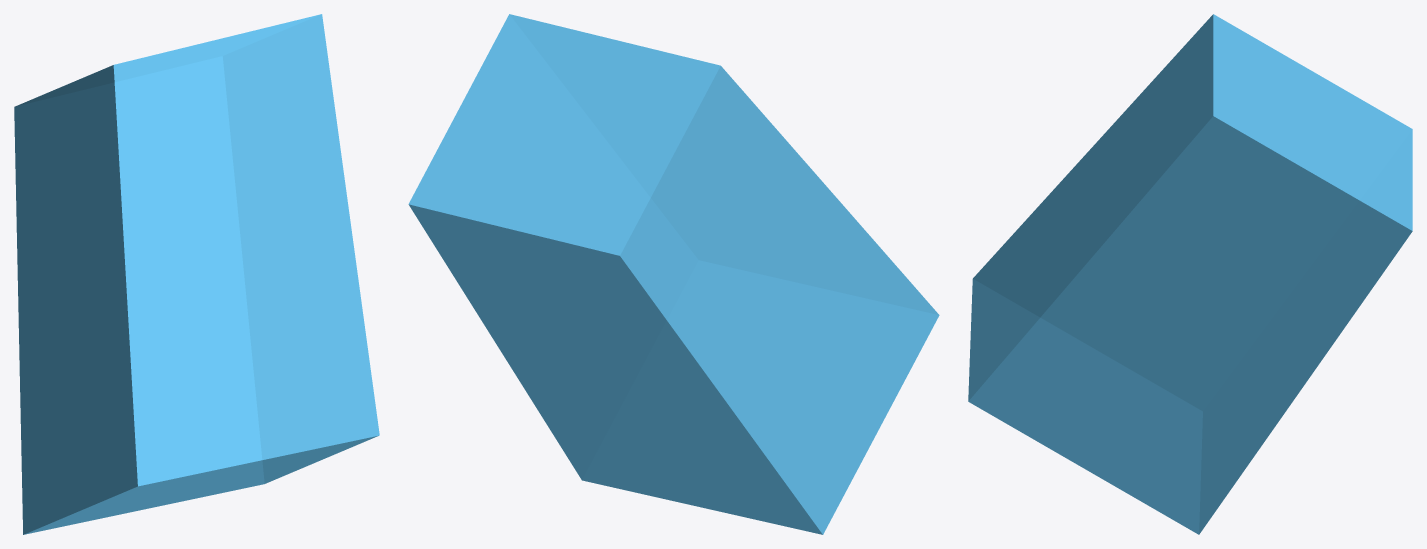
The model's file is Event_421364160_HBrechit_7.fbx.
The picture shows the model from 3 angles, left to right: view 1: azimuth 30°, elevation 25°; view 2: azimuth 150°, elevation 25°; view 3: azimuth 270°, elevation 25°; orthographic projection.
Parts seen in each view (by area): view 1: Model; view 2: Model; view 3: Model.
Boxes of the visible parts, box(x1,y1,x2,y2) form: Model: box(14, 14, 379, 534); Model: box(408, 14, 939, 534); Model: box(968, 14, 1412, 534).
Bounding box in the file's own units: 0.5983 × 0.8445 × 0.7551.
